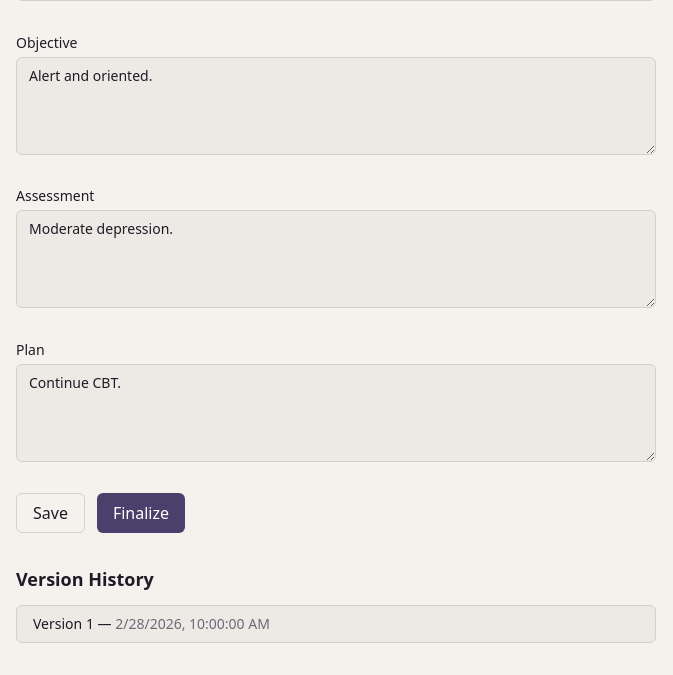
Scenario: Session note edit page › shows error when save returns success=false
(page scrolled)
What coordinates should you click on to do the following:
click the button "Save"
I would click on:
 (50, 513)
Its box is top-left (16, 493), bottom-right (85, 533).
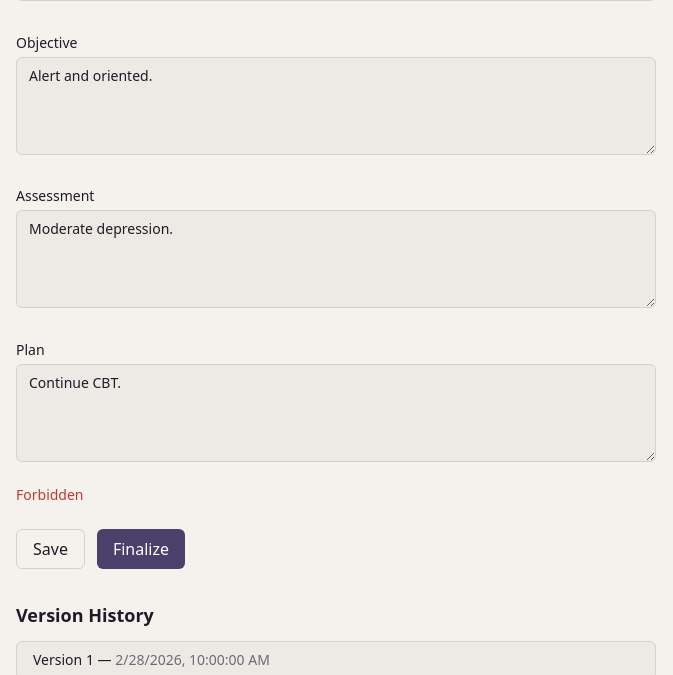
Expected: the text "Forbidden" is shown, top-left (16, 485), bottom-right (84, 504)
